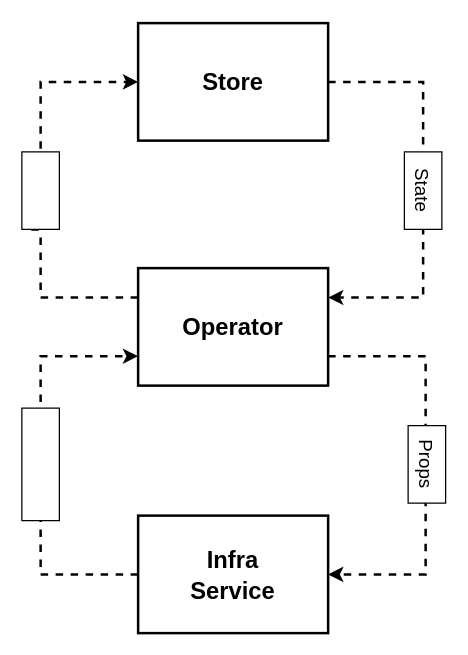
Image size: 468x655. Some labels were removed from this diagram. The shapes that lost their labels are listed below. From the top down, each one's centre as x and y in pixels, then its label:
At (40,190): "Action".
At (40,464): "Command".
